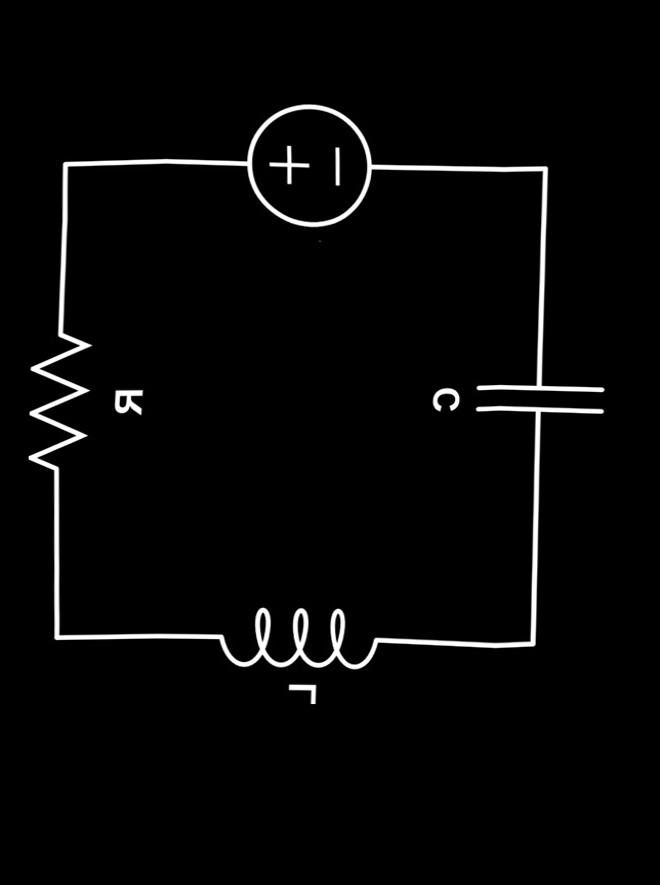Battery: (221, 79, 413, 256)
